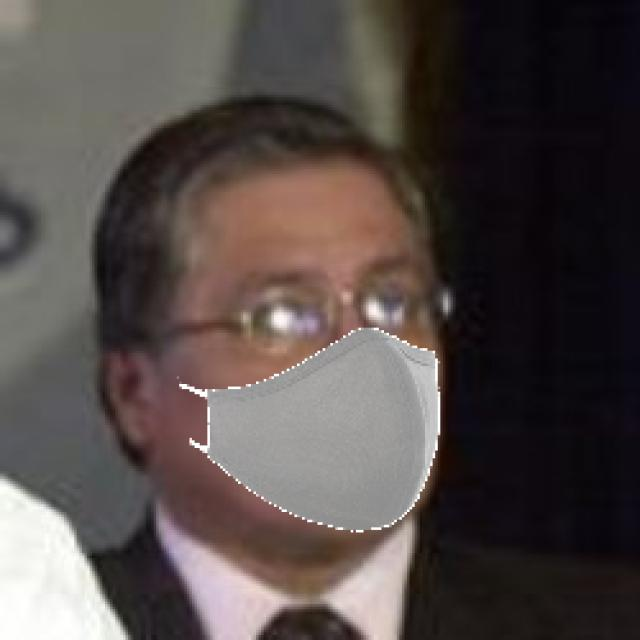mask: (162, 333, 481, 535)
